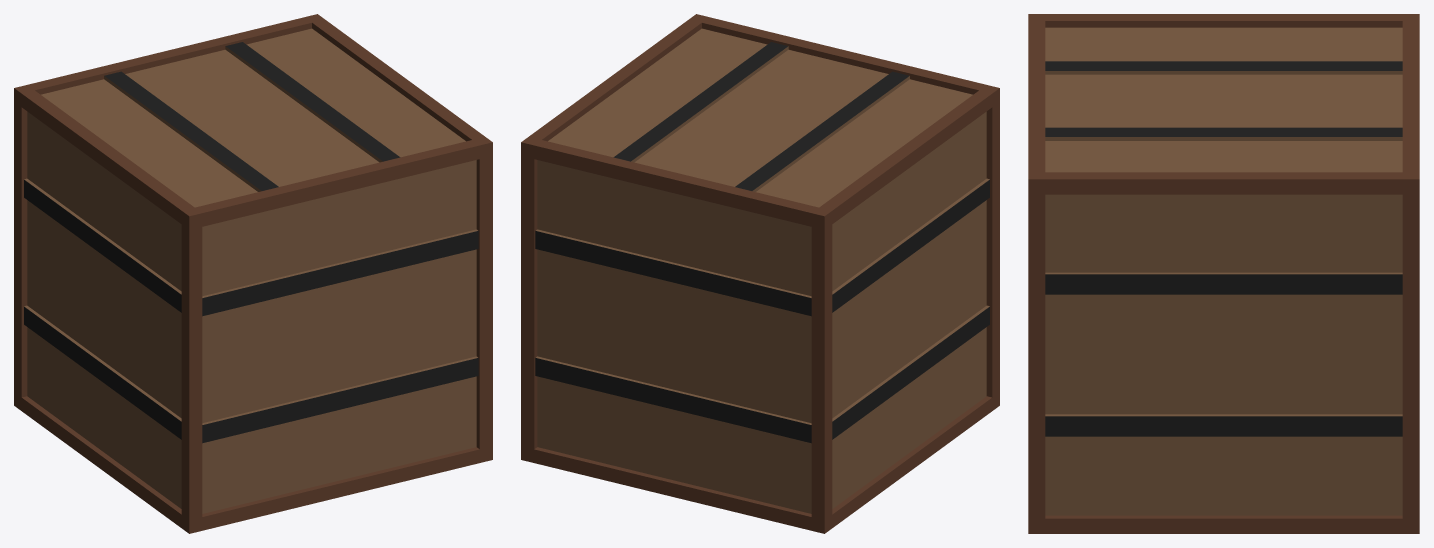
Rendered from crate.glb.
3 views of the same model, side by side, from view 1: azimuth 30°, elevation 25°; view 2: azimuth 150°, elevation 25°; view 3: azimuth 270°, elevation 25° (orthographic). The views are drawn at different scales.
Parts seen in each view (by area): view 1: Crate; view 2: Crate; view 3: Crate.
Part boxes in pixels (<box>): Crate: <box>14,14,492,533</box>; Crate: <box>521,14,999,533</box>; Crate: <box>1028,14,1419,533</box>.
Size of the model in its own units: 2 by 2 by 2.
Materials: 1 (1 with a texture image).
